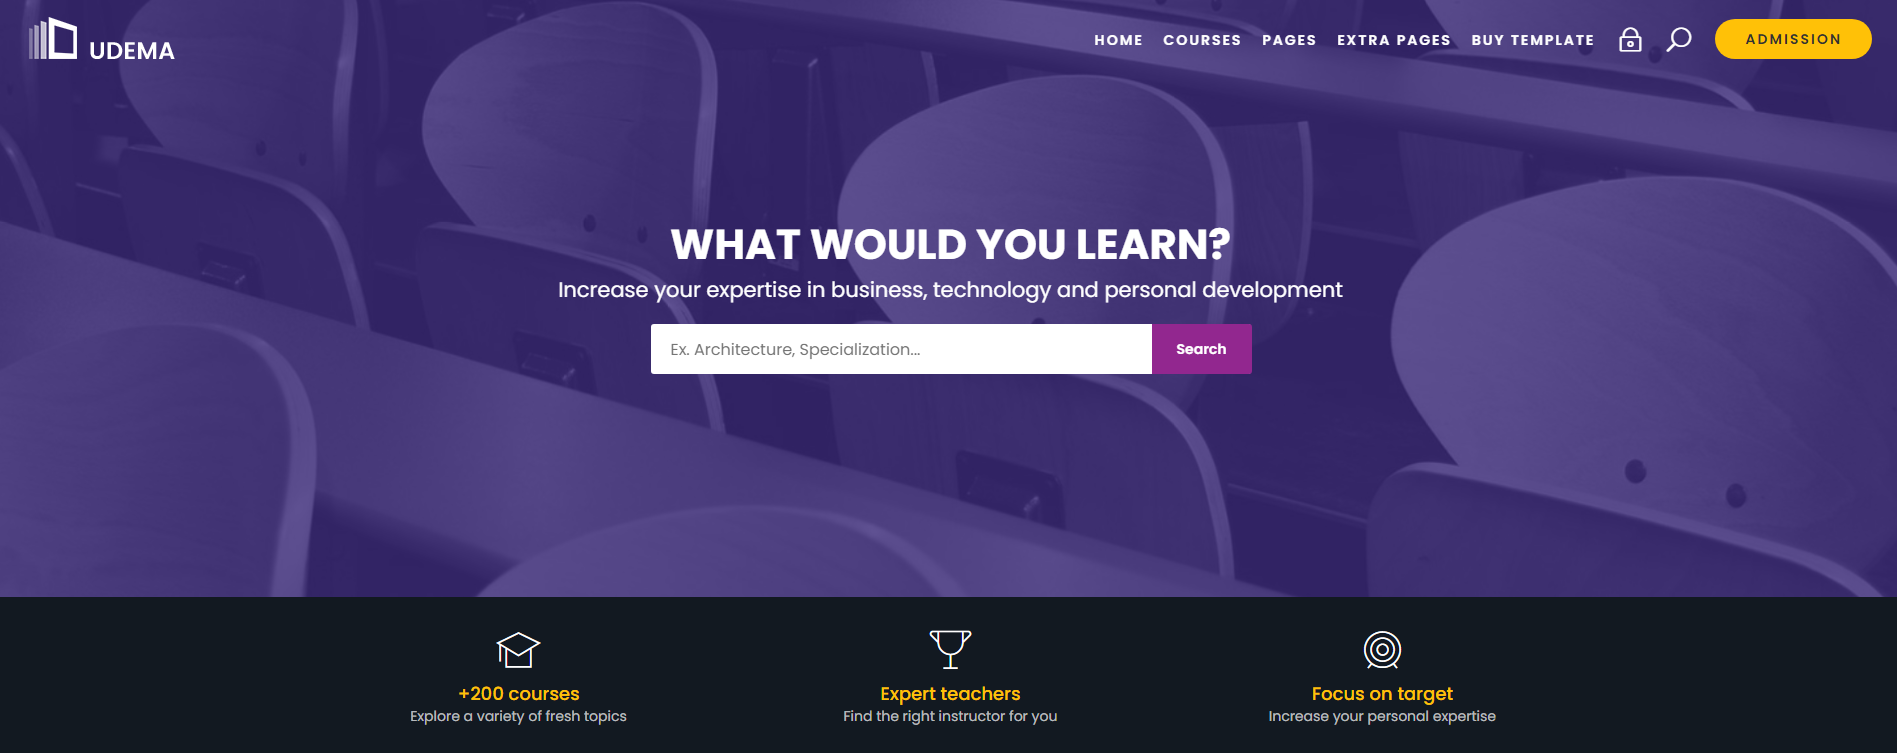menu-bar: (21, 10, 1897, 205)
